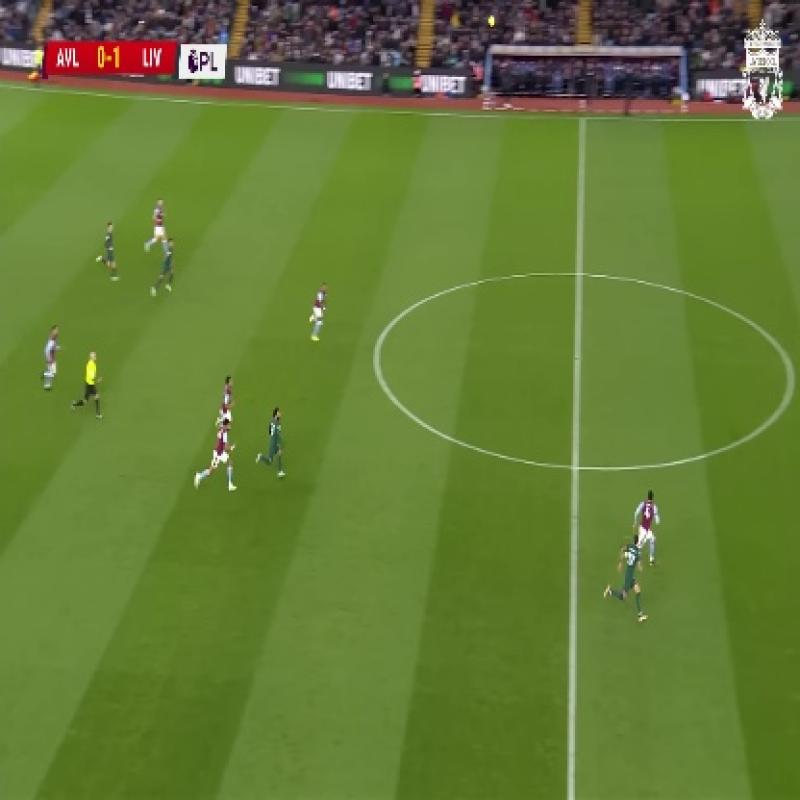13: (571, 104, 594, 133)
14: (560, 250, 596, 296)
15: (558, 442, 590, 489)
c: (354, 330, 401, 366), (780, 358, 800, 398)
